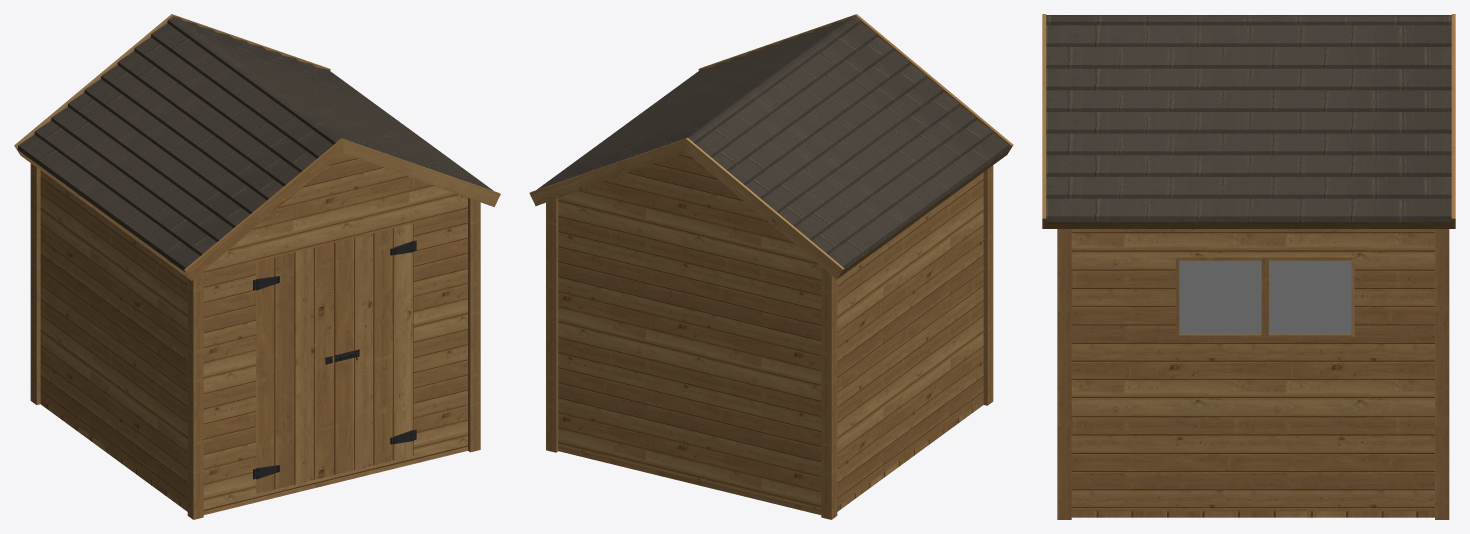
The model's file is shed.FBX.
3 renders of one model, left to right at view 1: azimuth 30°, elevation 25°; view 2: azimuth 150°, elevation 25°; view 3: azimuth 270°, elevation 25°, orthographic. The views are drawn at different scales.
Visible parts, largest first — view 1: shed, shed_Right_door, shed_Left_door; view 2: shed; view 3: shed.
Part boxes in pixels (x1,y1,x2,y2): shed: (14, 14, 500, 519); shed_Right_door: (334, 223, 413, 474); shed_Left_door: (256, 243, 334, 493); shed: (529, 14, 1013, 519); shed: (1042, 14, 1455, 519).
Bounding box in the file's own units: 245 × 260 × 231.
